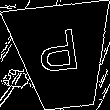P_S: (38, 30, 87, 84)
